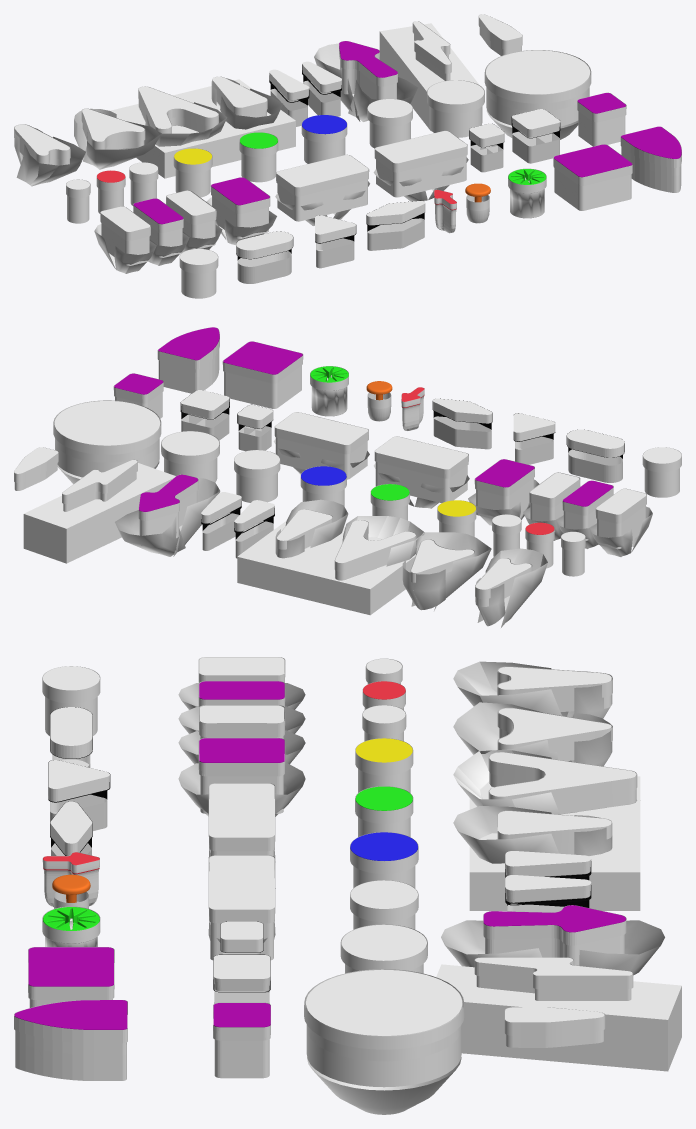
Rendered from Inserts.fbx.
3 views of the same model, one above another, from view 1: azimuth 30°, elevation 25°; view 2: azimuth 150°, elevation 25°; view 3: azimuth 270°, elevation 25° (orthographic). The views are drawn at different scales.
Visible parts, largest first — view 1: Insert - Circle - Starbust - 2 3/4" - High poly, Insert - Arrow Large, Insert - Rect - Starbust - 1 1/8 x 2 1/4", Insert - Rect - Clear - 1 1/8 x 2 1/4", Insert - Lightn ing, Insert - Arrow 2", Insert - Arrow - Stippled - 2 1/2", Insert - Rectangle - Stippled - 1"1/2 x1"5/8, Insert - Arrow - Starbust 2" x 1-9/16", Insert - Rect - Stippled - 1 x 1 1/2", Insert - GOT Shield, Insert - Arrow - Starbust 2" x 1" (+24 smaller); view 2: Insert - Lightn ing, Insert - Arrow Large, Insert - Circle - Starbust - 2 3/4" - High poly, Insert - Arrow 2", Insert - Arrow - Stippled - 2 1/2", Insert - Rect - Clear - 1 1/8 x 2 1/4", Insert - Rect - Starbust - 1 1/8 x 2 1/4", Insert - Arrow - Starbust 2" x 1-9/16", Insert - Rectangle - Stippled - 1"1/2 x1"5/8, Insert - Arrow - Starbust 2" x 1", Insert - GOT Shield, Insert - Rect - Stippled - 1 x 1 1/2" (+24 smaller); view 3: Insert - Circle - Starbust - 2 3/4" - High poly, Insert - Lightn ing, Insert - Arrow 2", Insert - Arrow - Stippled - 2 1/2", Insert - Arrow Large, Insert - GOT Shield, Insert - Arrow - Starbust 2" x 1-9/16", Insert - Arrow - Starbust 2" x 1", Insert - Rect - Stippled - 1 x 1 1/2", Insert - Rect - Starbust - 1 1/8 x 2 1/4", Insert - Rect - Clear - 1 1/8 x 2 1/4", Insert - Rectangle - Stippled - 1"1/2 x1"5/8 (+24 smaller).
Boxes of the visible parts, bbox=[...] form: Insert - Circle - Starbust - 2 3/4" - High poly: bbox=[484, 50, 591, 139]; Insert - Arrow Large: bbox=[110, 86, 230, 178]; Insert - Rect - Starbust - 1 1/8 x 2 1/4": bbox=[373, 130, 468, 201]; Insert - Rect - Clear - 1 1/8 x 2 1/4": bbox=[275, 154, 369, 225]; Insert - Lightn ing: bbox=[379, 21, 482, 131]; Insert - Arrow 2": bbox=[174, 76, 295, 162]; Insert - Arrow - Stippled - 2 1/2": bbox=[314, 41, 417, 121]; Insert - Rectangle - Stippled - 1"1/2 x1"5/8: bbox=[553, 144, 632, 210]; Insert - Arrow - Starbust 2" x 1-9/16": bbox=[74, 108, 161, 169]; Insert - Rect - Stippled - 1 x 1 1/2": bbox=[206, 177, 276, 245]; Insert - GOT Shield: bbox=[620, 126, 681, 192]; Insert - Arrow - Starbust 2" x 1": bbox=[14, 124, 85, 186]; Insert - Lightn ing: bbox=[23, 459, 175, 563]; Insert - Arrow Large: bbox=[303, 516, 424, 615]; Insert - Circle - Starbust - 2 3/4" - High poly: bbox=[53, 400, 161, 483]; Insert - Arrow 2": bbox=[237, 499, 348, 598]; Insert - Arrow - Stippled - 2 1/2": bbox=[115, 474, 220, 556]; Insert - Rect - Clear - 1 1/8 x 2 1/4": bbox=[373, 436, 469, 508]; Insert - Rect - Starbust - 1 1/8 x 2 1/4": bbox=[273, 412, 369, 479]; Insert - Arrow - Starbust 2" x 1-9/16": bbox=[402, 532, 491, 610]; Insert - Rectangle - Stippled - 1"1/2 x1"5/8: bbox=[222, 341, 303, 408]; Insert - Arrow - Starbust 2" x 1": bbox=[475, 548, 547, 627]; Insert - GOT Shield: bbox=[157, 327, 219, 393]; Insert - Rect - Stippled - 1 x 1 1/2": bbox=[468, 459, 539, 525]; Insert - Circle - Starbust - 2 3/4" - High poly: bbox=[304, 969, 464, 1114]; Insert - Lightn ing: bbox=[436, 957, 681, 1071]; Insert - Arrow 2": bbox=[453, 806, 640, 910]; Insert - Arrow - Stippled - 2 1/2": bbox=[441, 905, 664, 975]; Insert - Arrow Large: bbox=[453, 750, 640, 824]; Insert - GOT Shield: bbox=[14, 1000, 127, 1080]; Insert - Arrow - Starbust 2" x 1-9/16": bbox=[453, 702, 612, 766]; Insert - Arrow - Starbust 2" x 1": bbox=[453, 661, 612, 718]; Insert - Rect - Stippled - 1 x 1 1/2": bbox=[178, 738, 305, 816]; Insert - Rect - Starbust - 1 1/8 x 2 1/4": bbox=[208, 855, 275, 960]; Insert - Rect - Clear - 1 1/8 x 2 1/4": bbox=[208, 783, 275, 857]; Insert - Rectangle - Stippled - 1"1/2 x1"5/8: bbox=[28, 947, 114, 1007].
Size of the model in its own units: 40.39 by 29.83 by 5.
